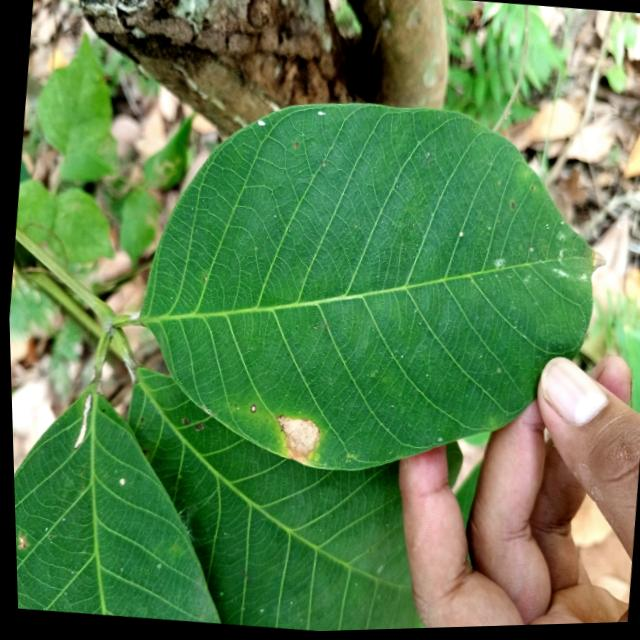Colletotrichum: (246, 405, 253, 414)
Leaf-Blight: (267, 414, 320, 468), (68, 392, 90, 451)
